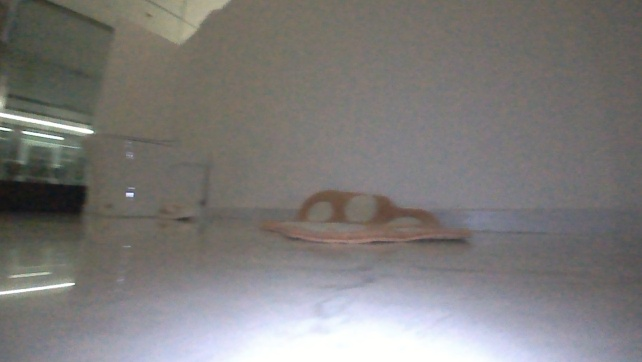blanket: (258, 214, 474, 246)
toilet: (77, 130, 172, 219)
